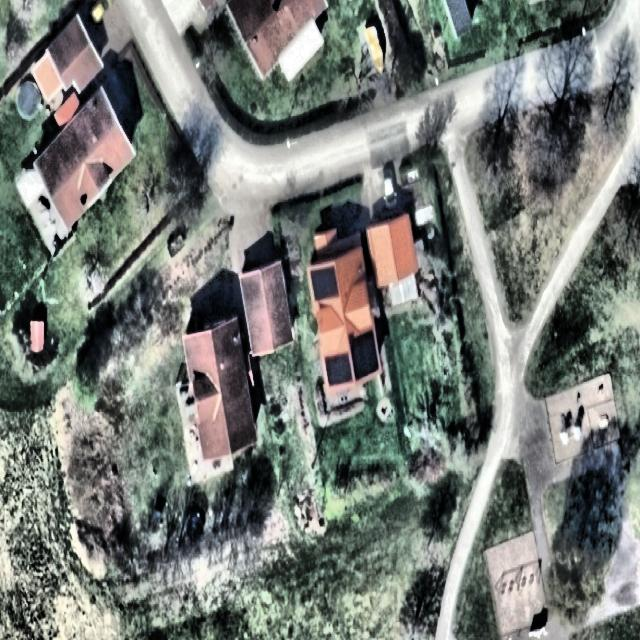roof_pv: (348, 328, 379, 379), (309, 264, 342, 306), (323, 351, 355, 389)
